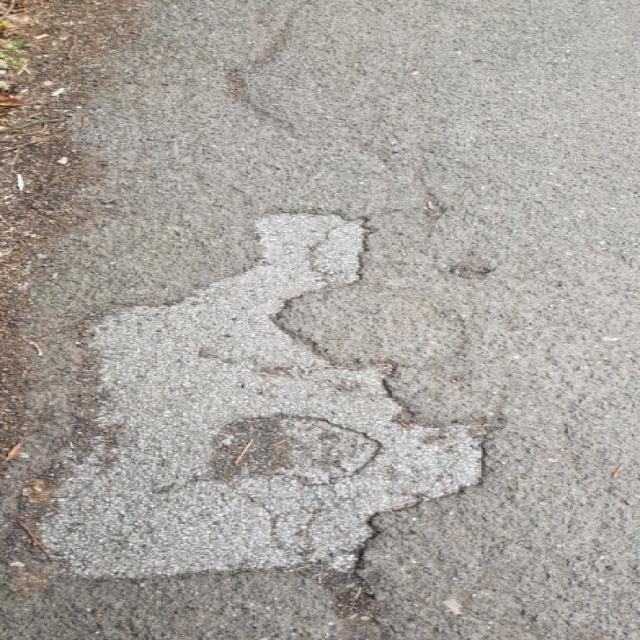pothole: (6, 205, 506, 586), (201, 410, 382, 486)
